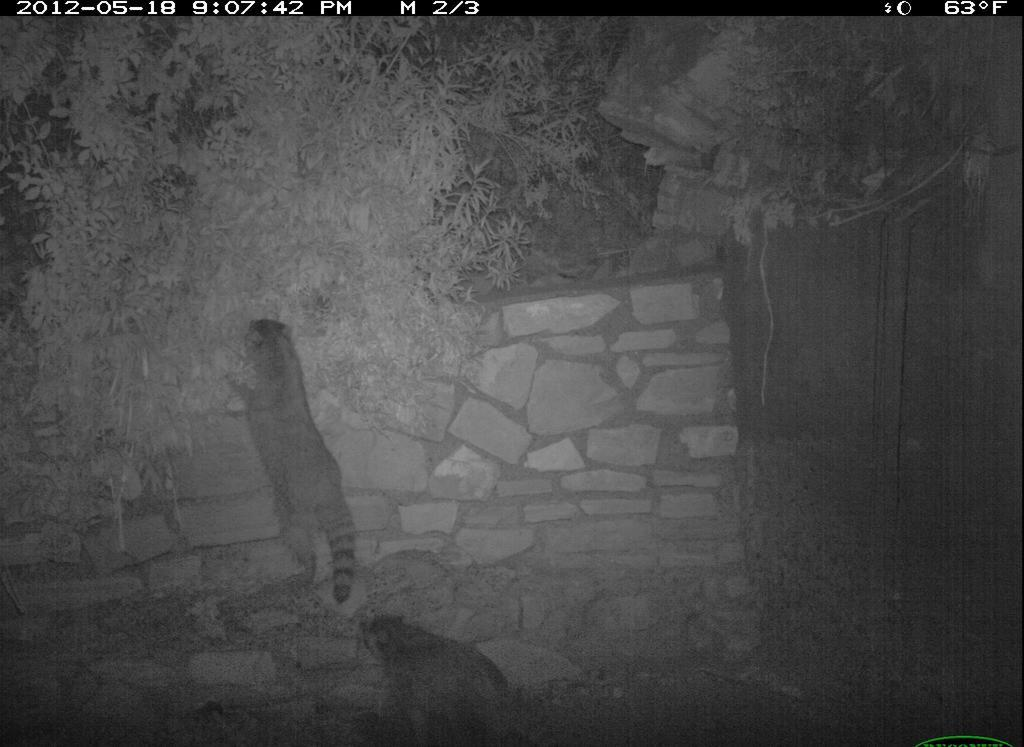raccoon: (212, 309, 365, 606), (355, 610, 532, 747)
